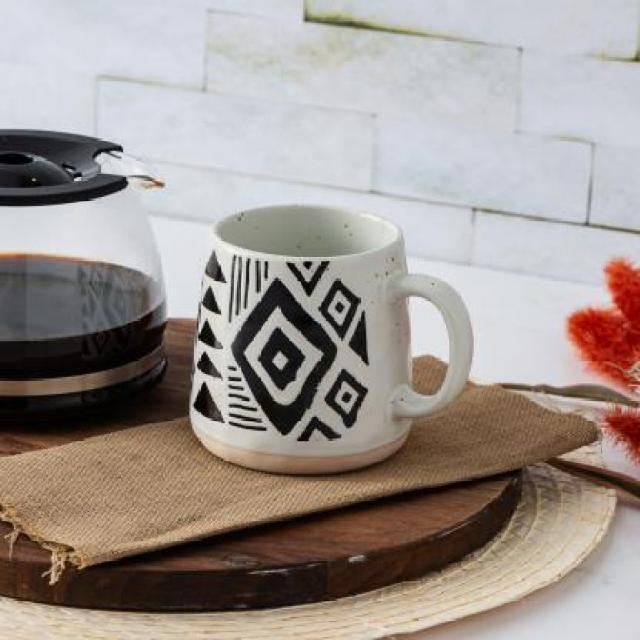taza: (191, 205, 475, 476)
